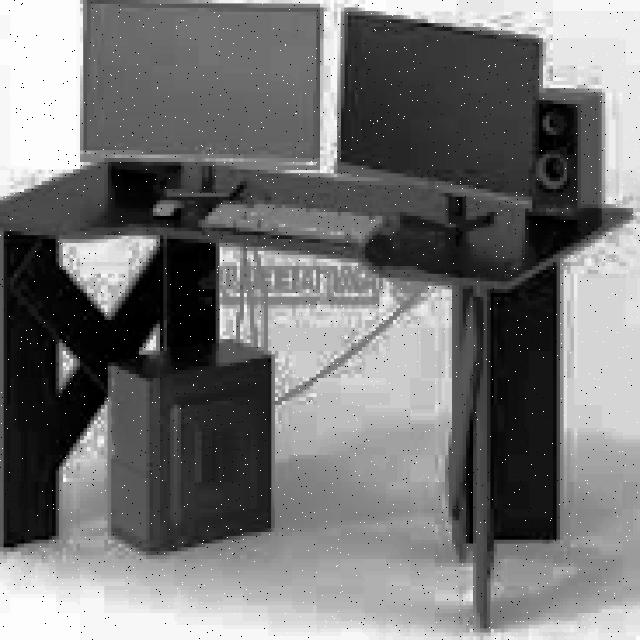table: (0, 154, 637, 628)
